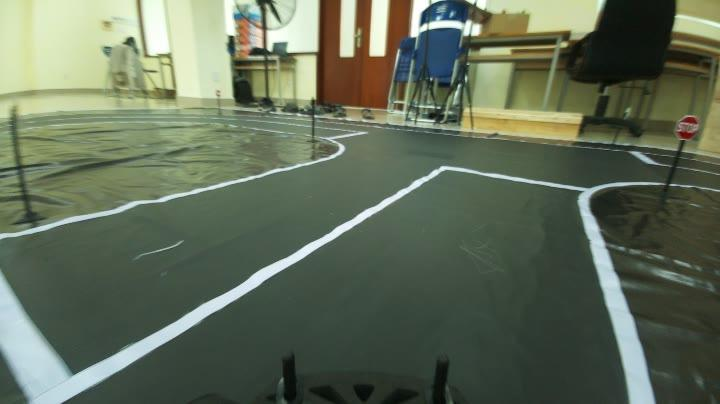stop: (672, 110, 702, 148)
